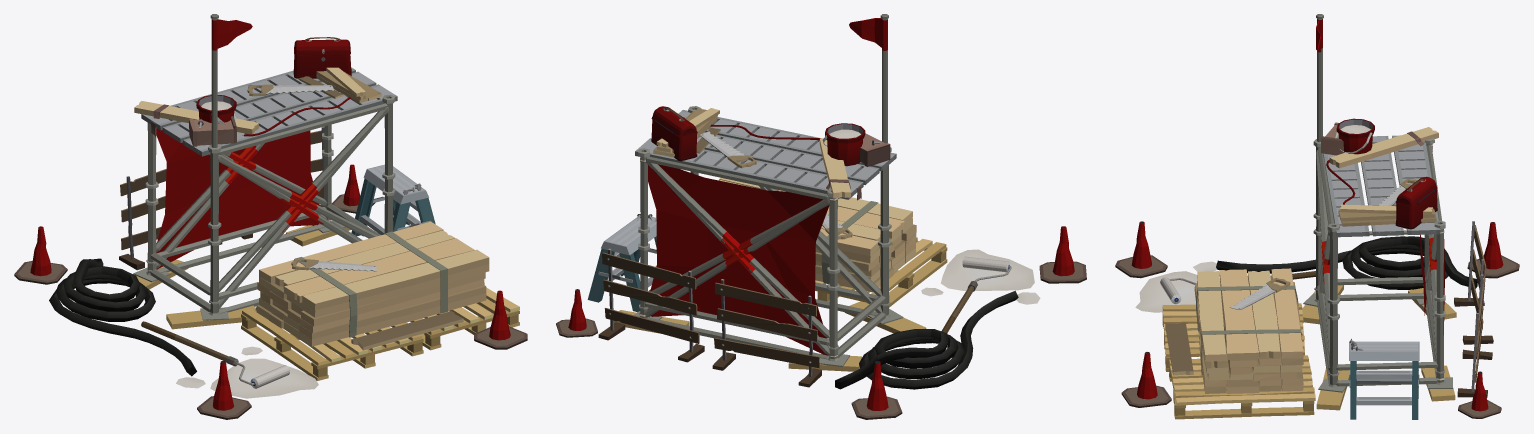
The picture shows the model from 3 angles, left to right: view 1: azimuth 30°, elevation 25°; view 2: azimuth 150°, elevation 25°; view 3: azimuth 270°, elevation 25°; orthographic projection. The views are drawn at different scales.
Parts seen in each view (by area): view 1: baseTutorial.001, midTutorial.001, cloth.005, RoofTutorial.001; view 2: baseTutorial.001, cloth.005, midTutorial.001, RoofTutorial.001; view 3: baseTutorial.001, midTutorial.001, RoofTutorial.001.
Part boxes in pixels (box(x1,y1,x2,y2)): baseTutorial.001: box(14, 76, 527, 419); midTutorial.001: box(141, 67, 397, 313); cloth.005: box(156, 128, 319, 269); RoofTutorial.001: box(134, 14, 397, 311); baseTutorial.001: box(556, 110, 1086, 419); cloth.005: box(648, 164, 829, 355); midTutorial.001: box(635, 106, 896, 359); RoofTutorial.001: box(635, 14, 896, 357); baseTutorial.001: box(1115, 118, 1519, 419); midTutorial.001: box(1313, 135, 1445, 386); RoofTutorial.001: box(1313, 14, 1445, 386).
Bounding box in the file's own units: 1 × 0.8259 × 1.02.
